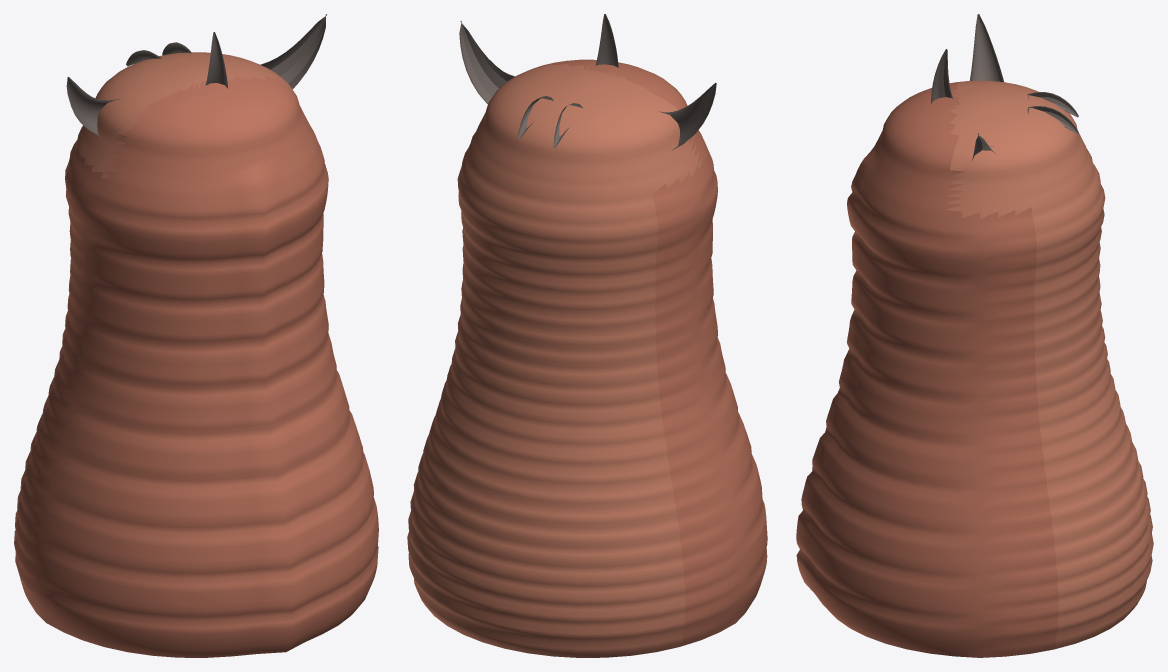
Rendered from big-worm-turret.glb.
The picture shows the model from 3 angles, left to right: view 1: azimuth 30°, elevation 25°; view 2: azimuth 150°, elevation 25°; view 3: azimuth 270°, elevation 25°; orthographic projection. The views are drawn at different scales.
Visible parts, largest first — view 1: body; view 2: body; view 3: body.
Boxes of the visible parts, bbox=[...] form: body: bbox=[14, 14, 378, 657]; body: bbox=[407, 14, 767, 657]; body: bbox=[796, 14, 1153, 657].
Bounding box in the file's own units: 2.54 × 4.35 × 2.61.
